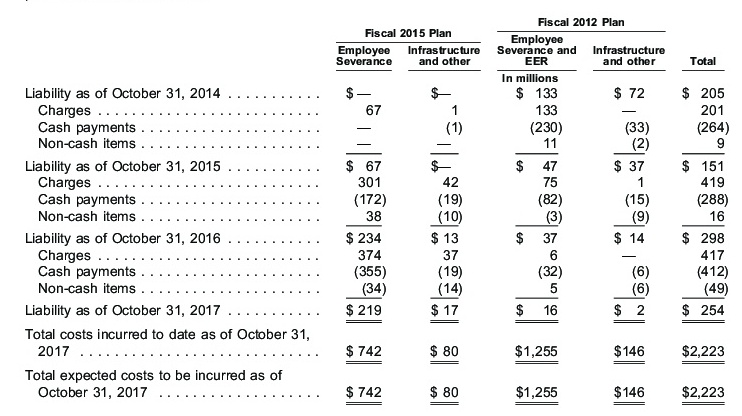table: (0, 0, 742, 416)
